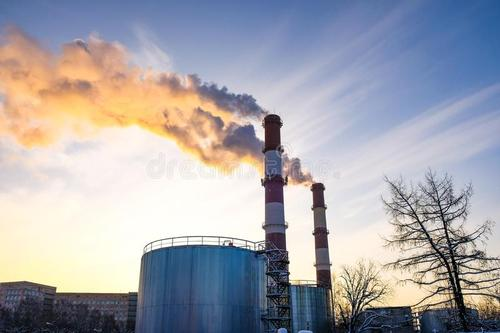smoke: (5, 45, 258, 178)
